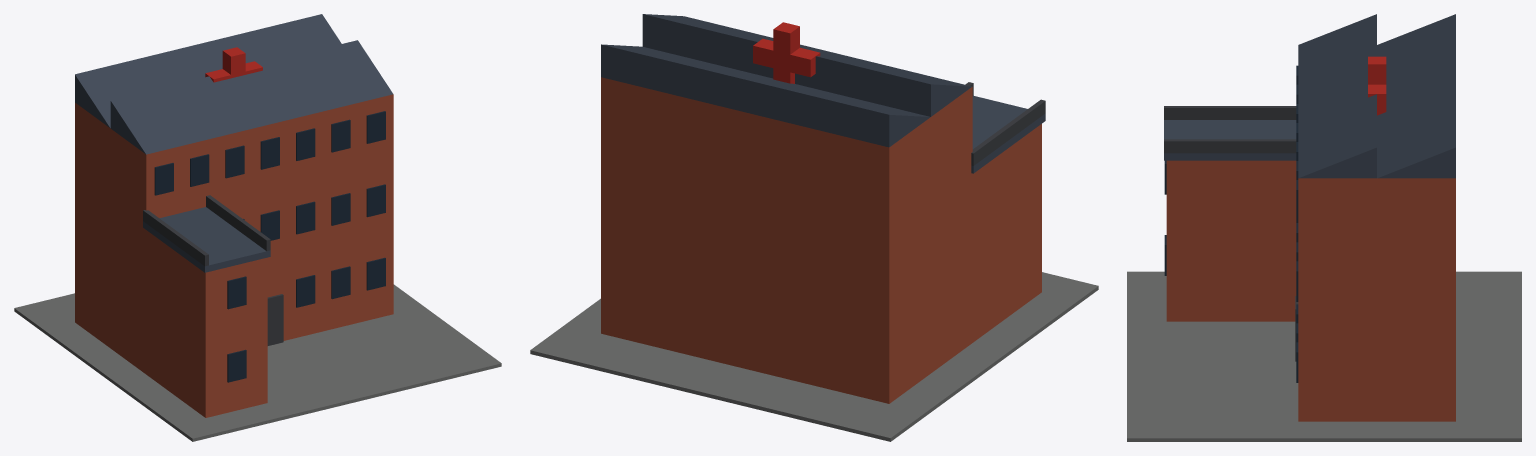
The model's file is bld_special_hospital_a05_lod1.glb.
3 views of the same model, side by side, from view 1: azimuth 30°, elevation 25°; view 2: azimuth 150°, elevation 25°; view 3: azimuth 270°, elevation 25° (orthographic). The views are drawn at different scales.
Parts seen in each view (by area): view 1: body; view 2: body; view 3: body.
Part boxes in pixels (x1,y1,x2,y2): body: [14, 14, 501, 441]; body: [530, 14, 1098, 441]; body: [1127, 14, 1521, 441].
Bounding box in the file's own units: 15 × 12.5 × 15.
